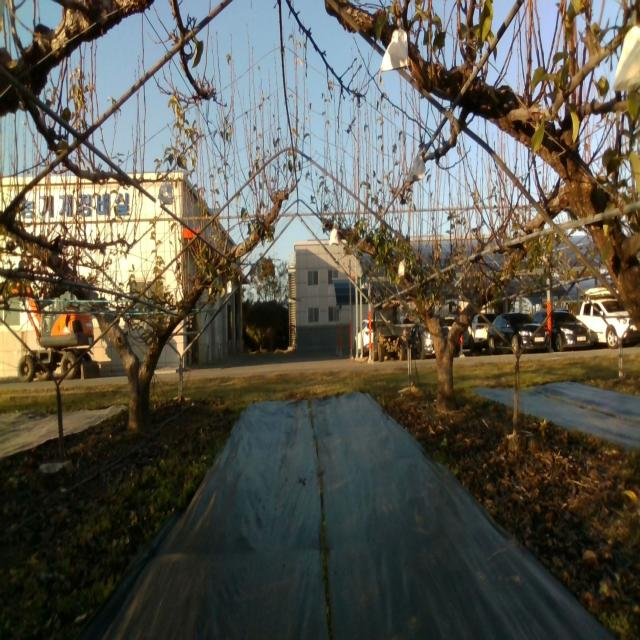pearbags: (612, 24, 640, 96), (380, 28, 408, 74), (404, 155, 426, 183), (156, 177, 173, 208), (329, 228, 339, 246)
